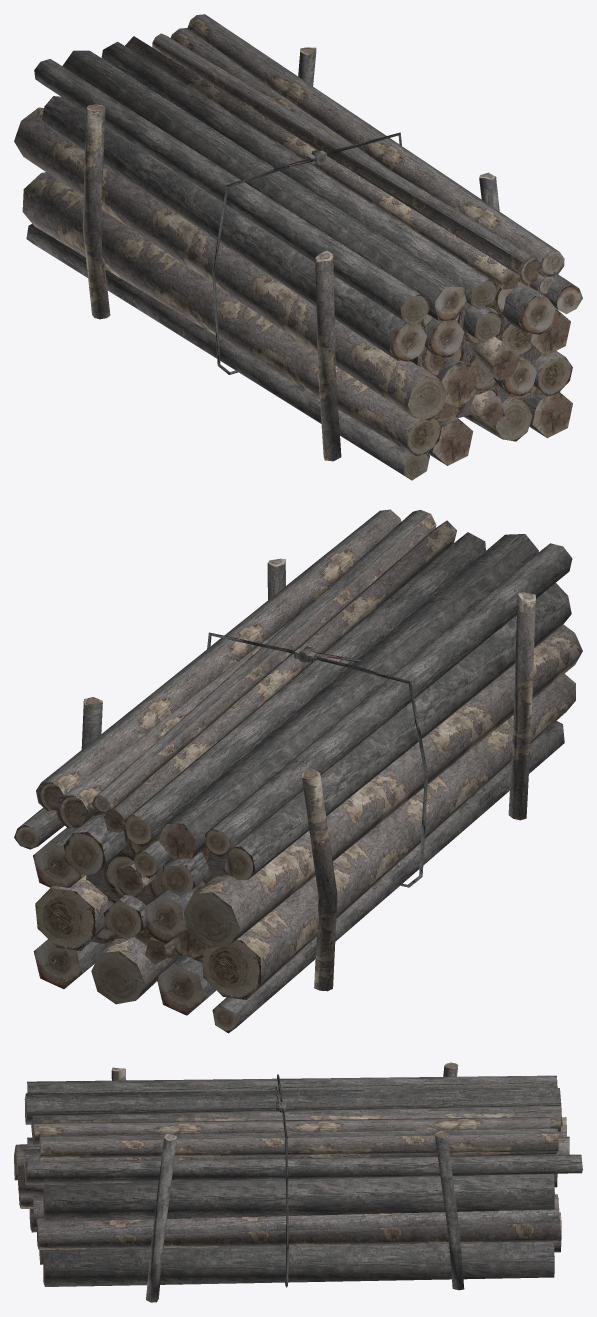
File: Building_LinjgdJz007_lod1.glb
3 views of the same model, one above another, from view 1: azimuth 30°, elevation 25°; view 2: azimuth 150°, elevation 25°; view 3: azimuth 270°, elevation 25° (orthographic). The views are drawn at different scales.
Parts seen in each view (by area): view 1: bmsl_linjgd_jz007_lod1; view 2: bmsl_linjgd_jz007_lod1; view 3: bmsl_linjgd_jz007_lod1.
Boxes of the visible parts, x1,y1,x2,y2 form: bmsl_linjgd_jz007_lod1: [14, 14, 582, 480]; bmsl_linjgd_jz007_lod1: [14, 509, 582, 1033]; bmsl_linjgd_jz007_lod1: [14, 1062, 582, 1302].
Size of the model in its own units: 2.95 by 2.49 by 7.69.
Materials: 1 (1 with a texture image).
